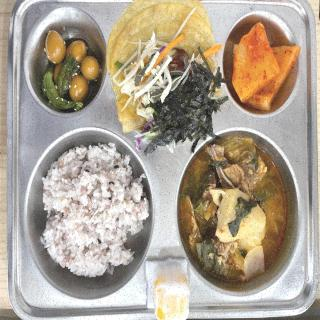Nasi: (42, 144, 148, 280)
